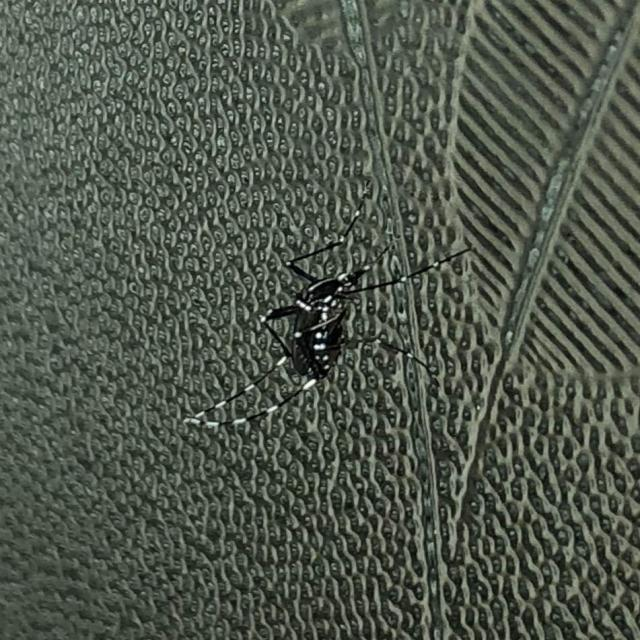albopictus: (185, 170, 484, 451)
